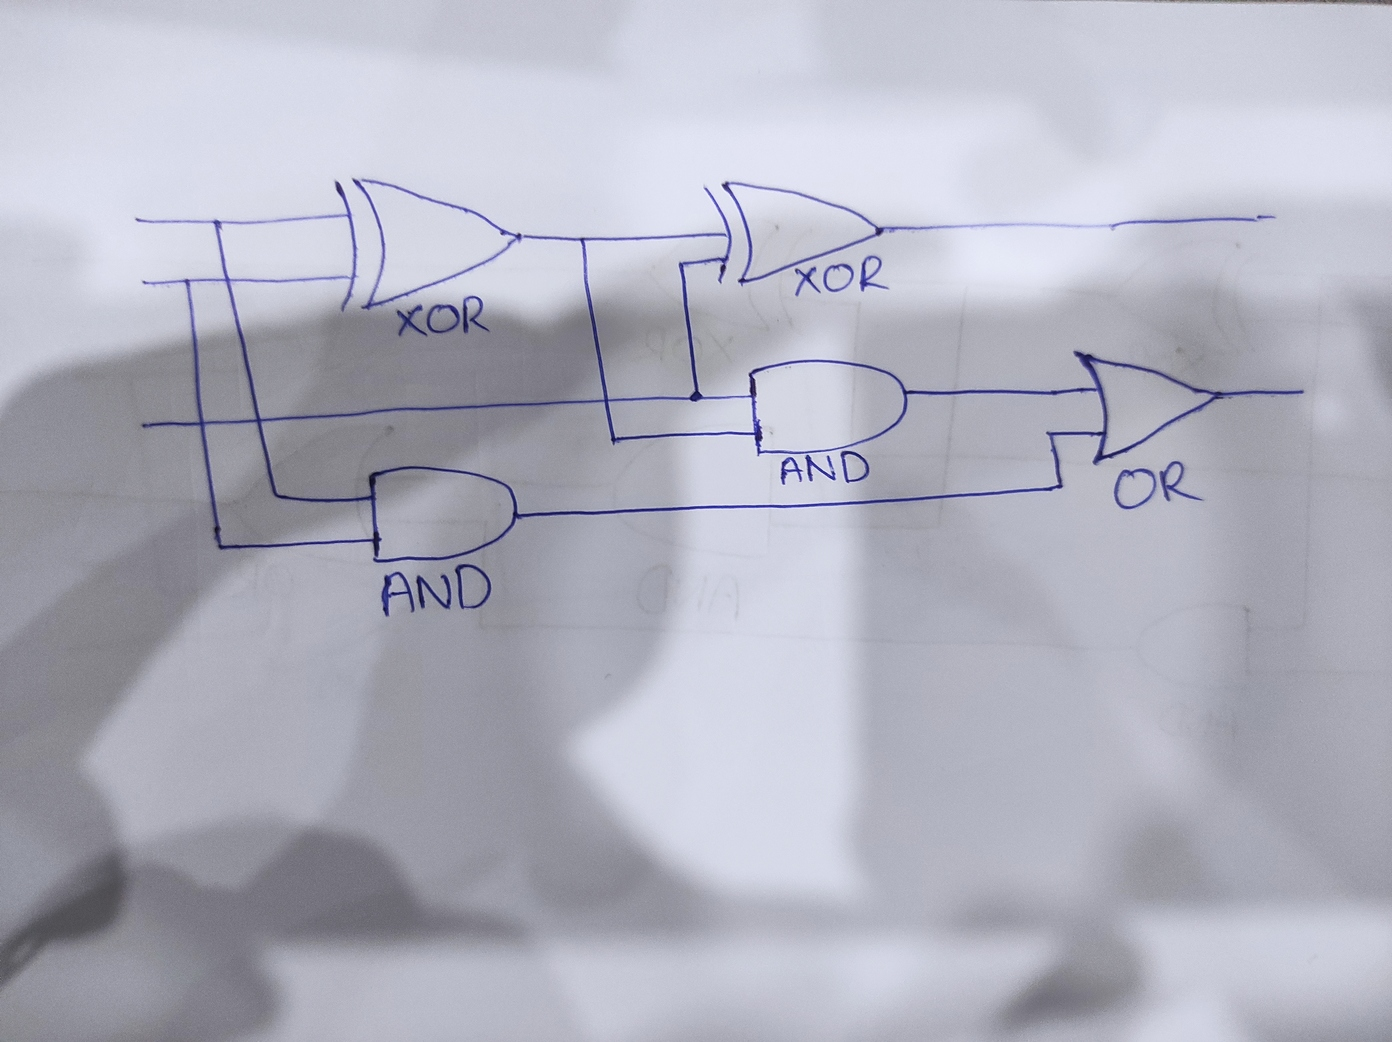and: (746, 355, 912, 459), (364, 462, 524, 565)
crossover: (248, 410, 270, 429), (598, 393, 620, 409), (192, 416, 214, 430), (220, 273, 237, 287)
junction: (1045, 476, 1071, 497), (208, 536, 232, 556), (1039, 426, 1062, 445), (204, 213, 227, 232), (686, 386, 707, 406), (264, 487, 287, 505), (572, 230, 593, 248), (603, 430, 625, 448), (674, 257, 691, 273), (179, 275, 195, 288)
or: (1071, 347, 1226, 466)
terminal: (1250, 205, 1294, 230), (1283, 381, 1316, 403), (125, 209, 150, 231), (132, 417, 154, 435), (136, 276, 152, 289)
text: (379, 561, 495, 620), (391, 293, 492, 341), (1110, 461, 1207, 510), (793, 253, 891, 296), (774, 448, 874, 486)
xor: (330, 173, 527, 316), (701, 177, 884, 289)
